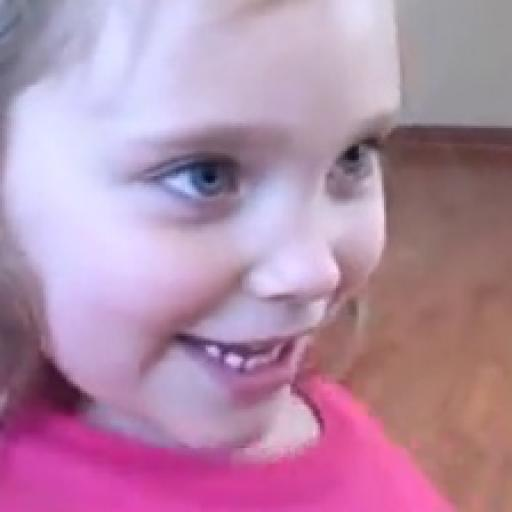Autism: (0, 0, 406, 470)
